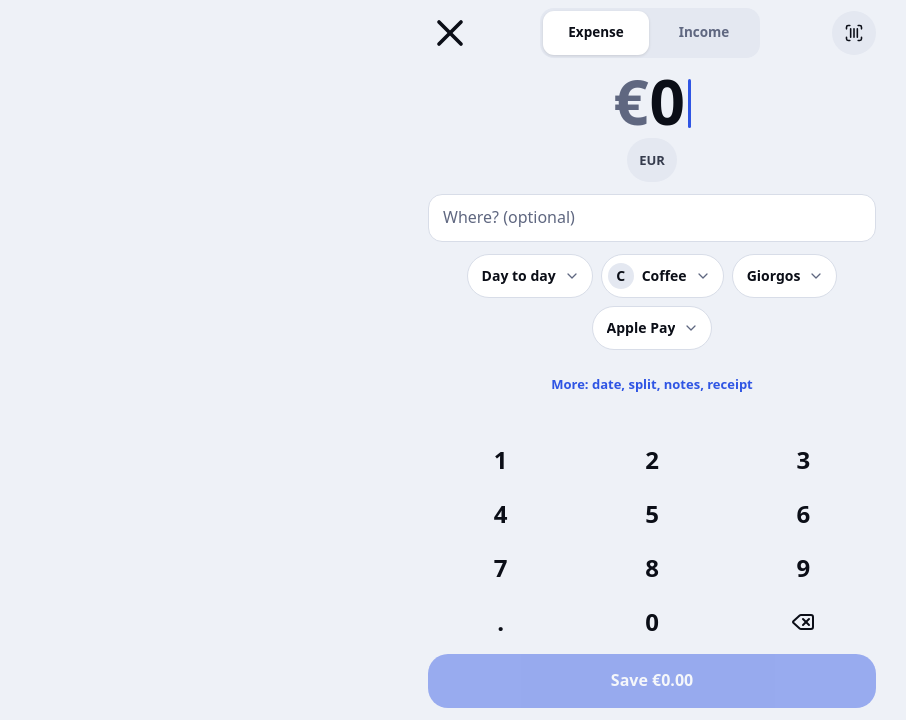
Test: nothing is shown when the server answers null
Expected: the button with aria-label "Bucket: Day to day" is shown, [467, 254, 593, 298]
Click the button "5": click(652, 514) [579, 490, 725, 538]
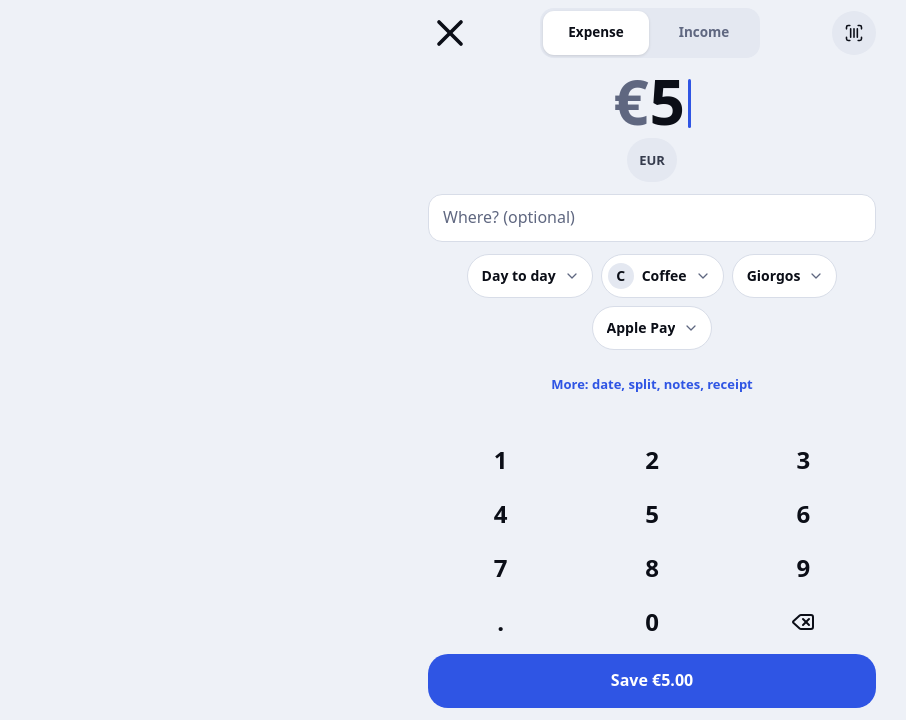
Click the button with aria-label "Save 5 euro": click(652, 681) [428, 654, 876, 708]
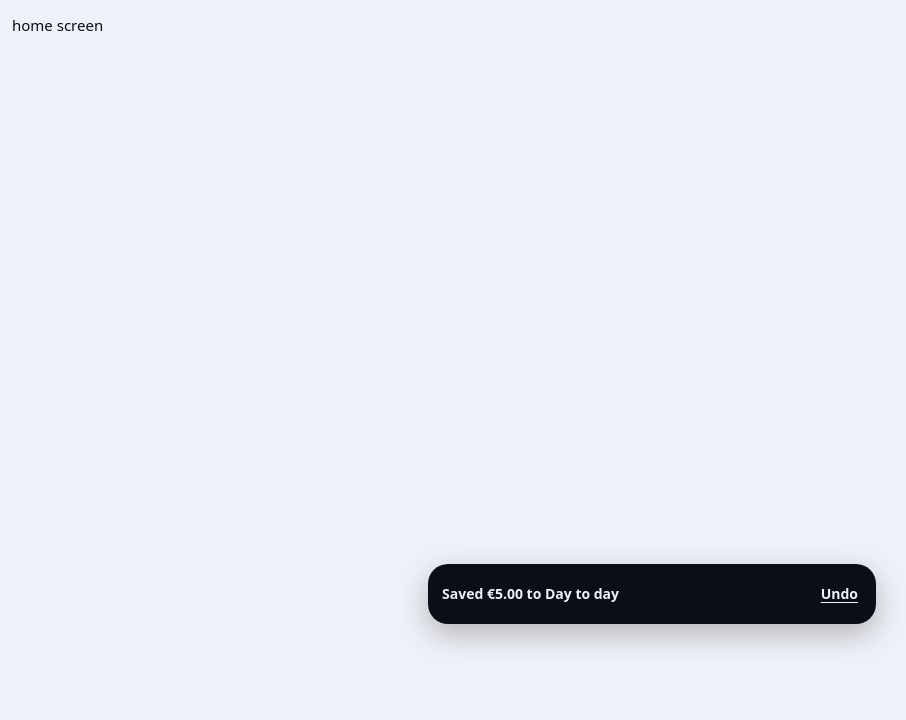
Expected: the text "home screen" is shown, [12, 15, 103, 35]
Expected: the text "Saved €5.00 to Day to day" is shown, [442, 584, 619, 603]
